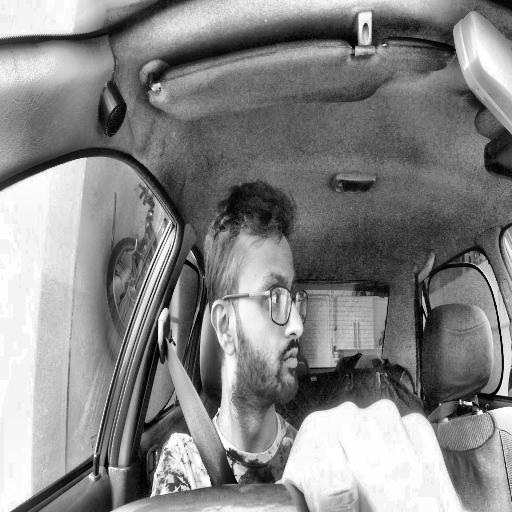awake: (206, 180, 308, 409)
